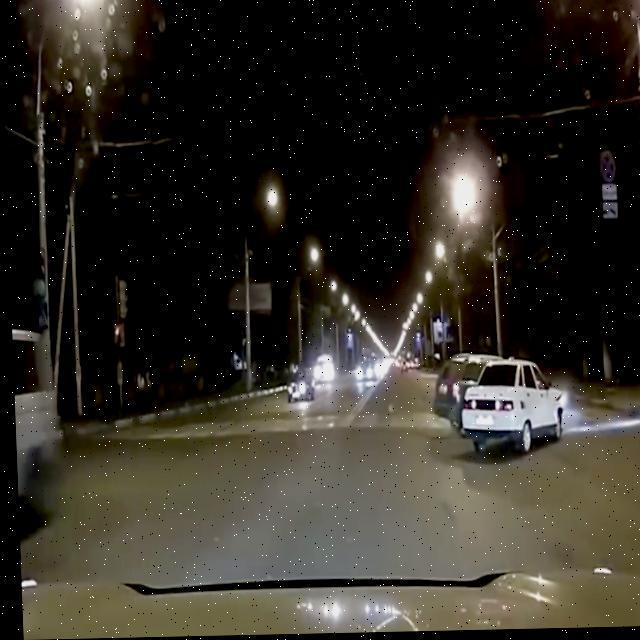multiple_accident: (426, 329, 582, 472)
